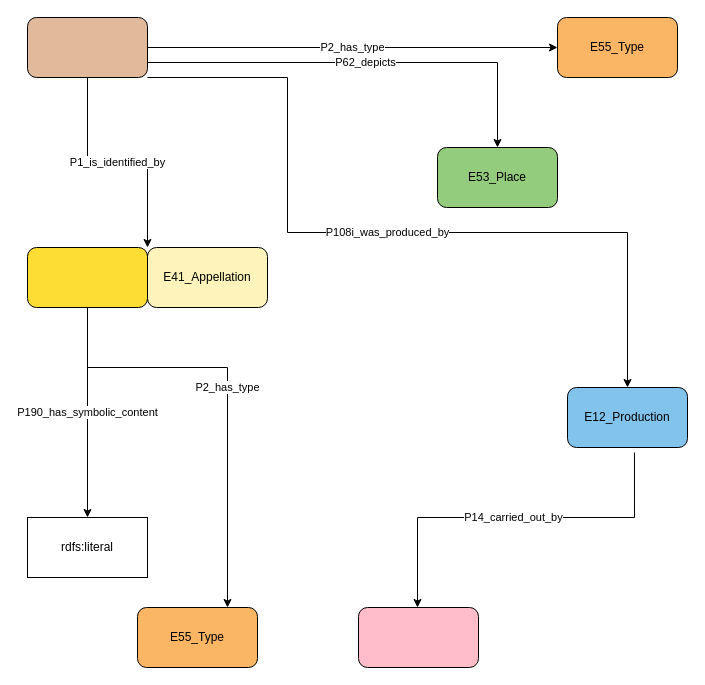
Image size: 705x685. Some labels were removed from this diagram. The box of each missing label's shape, as (x1, y1, x2, y2) in pixels:
E21_Person: (358, 606, 478, 668)
E22_Human-Made _Object: (26, 16, 148, 78)
E33_Linguistic _Object: (26, 246, 148, 308)
